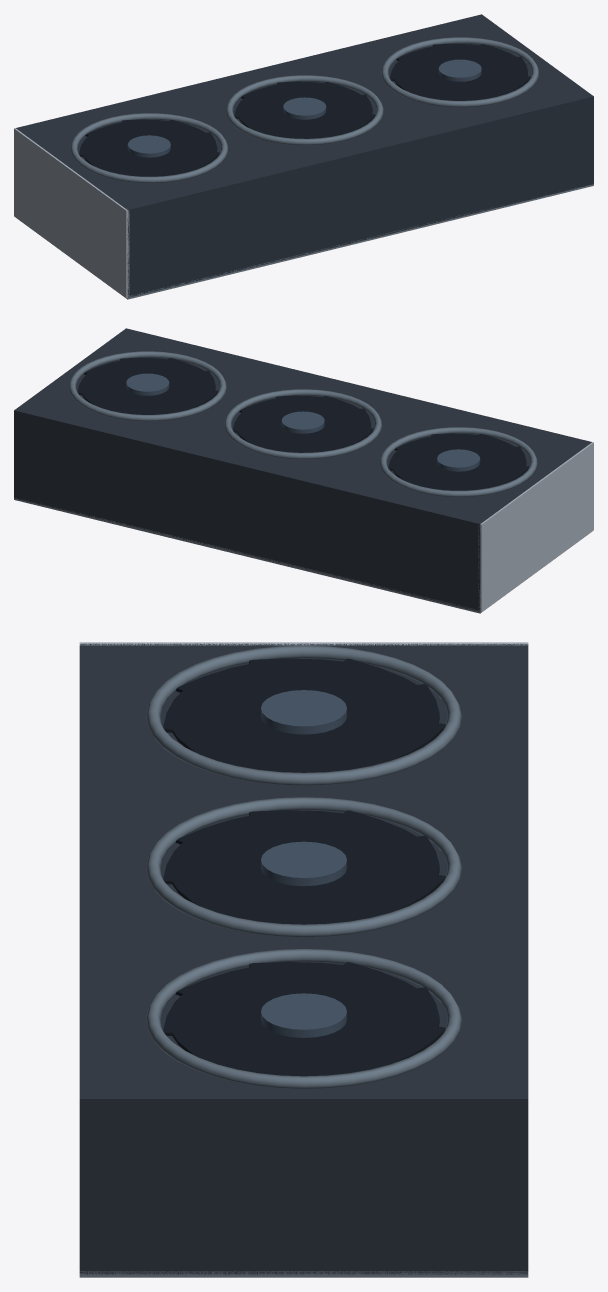
File: silhouette-gpu-3fan.glb
3 views of the same model, one above another, from view 1: azimuth 30°, elevation 25°; view 2: azimuth 150°, elevation 25°; view 3: azimuth 270°, elevation 25° (orthographic). The views are drawn at different scales.
Visible parts, largest first — view 1: Cooler shroud, Cooler blade (×27), Bracket, Fan rim (×3), Fan hub (×3), Backplate; view 2: Cooler shroud, Cooler blade (×27), Bracket, Fan rim (×3), Fan hub (×3), Backplate; view 3: Cooler shroud, Cooler blade (×27), Fan rim (×3), Fan hub (×3), Backplate, Bracket.
Boxes of the visible parts, x1,y1,x2,y2 form: Cooler shroud: (16, 14, 593, 297); Cooler blade (×27): (79, 43, 530, 176); Bracket: (14, 128, 129, 298); Fan rim (×3): (70, 37, 538, 182); Fan hub (×3): (127, 59, 481, 157); Backplate: (25, 183, 593, 299); Cooler shroud: (14, 328, 591, 611); Cooler blade (×27): (77, 358, 529, 490); Bracket: (478, 442, 593, 612); Fan rim (×3): (69, 351, 537, 496); Fan hub (×3): (126, 373, 480, 471); Backplate: (14, 497, 582, 613); Cooler shroud: (79, 643, 528, 1274); Cooler blade (×27): (163, 658, 445, 1076); Fan rim (×3): (146, 645, 461, 1088); Fan hub (×3): (261, 690, 346, 1037); Backplate: (79, 1271, 528, 1277); Bracket: (79, 642, 528, 645).
Size of the model in its own units: 0.301 by 0.0585 by 0.125.
